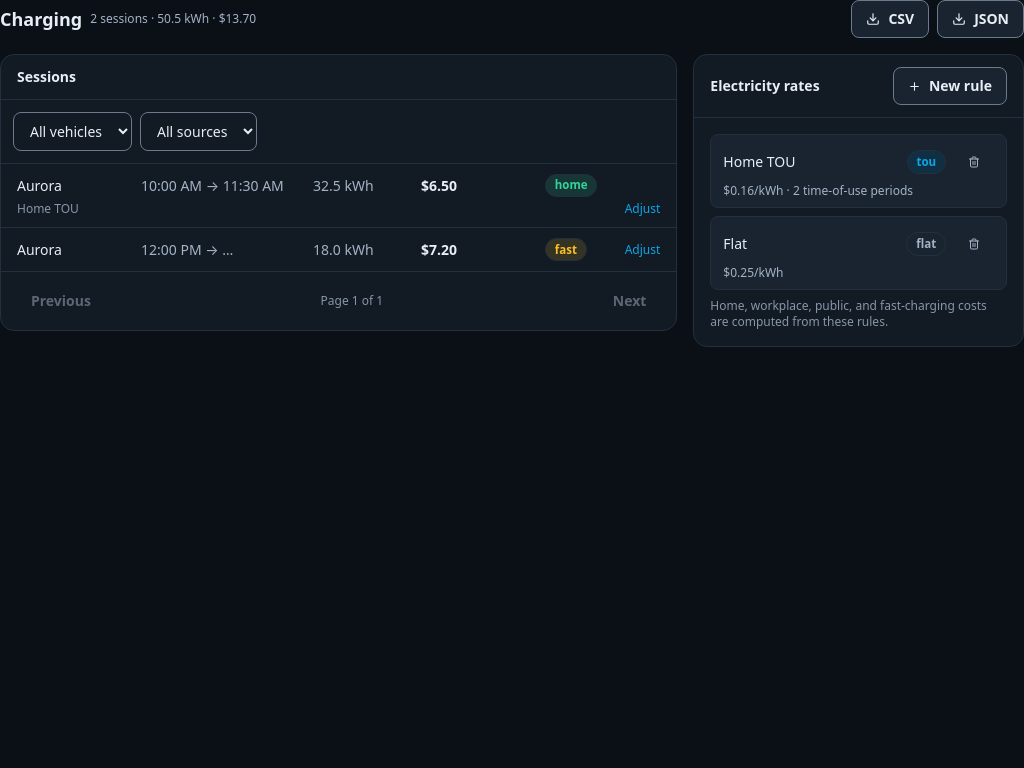
Test: ChargingPage › opens the cost correction modal and saves a manual override
This screenshot has width=1024, height=768.
Click the button "Adjust" below "32.5 kWh".
click(642, 209)  # box [625,201,660,217]
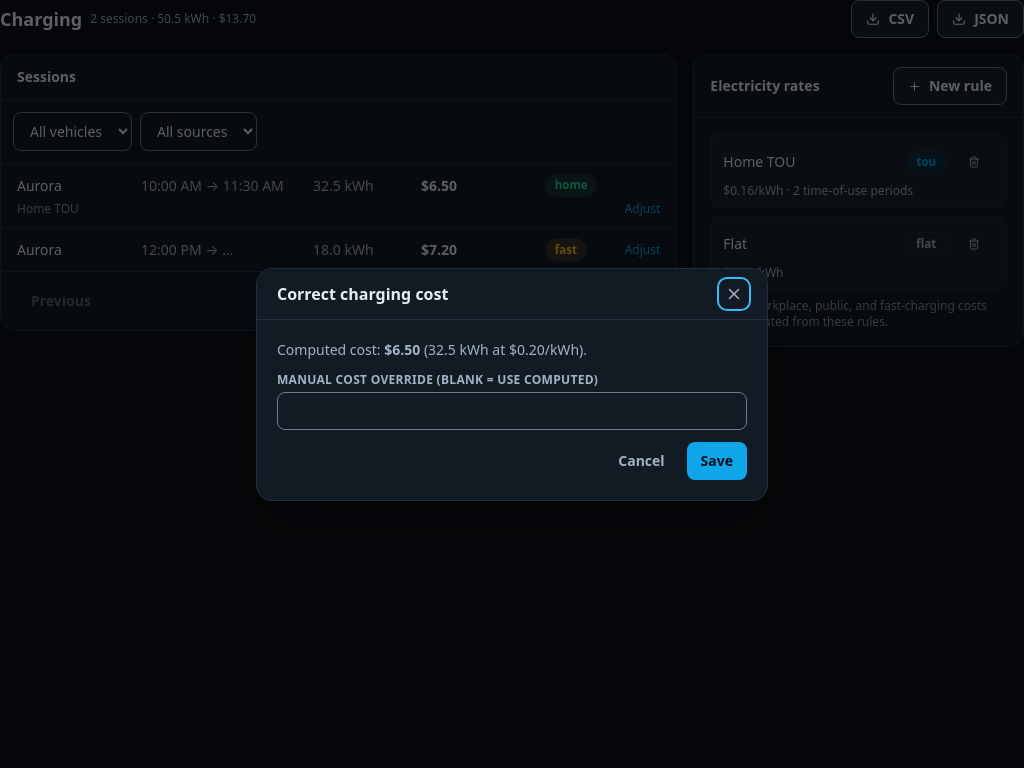
Expected: the heading "Correct charging cost" is shown, [277,282,448,306]
Type "12.34" into the number field.
click(512, 410); type("12.34")  # box [277,392,747,430]
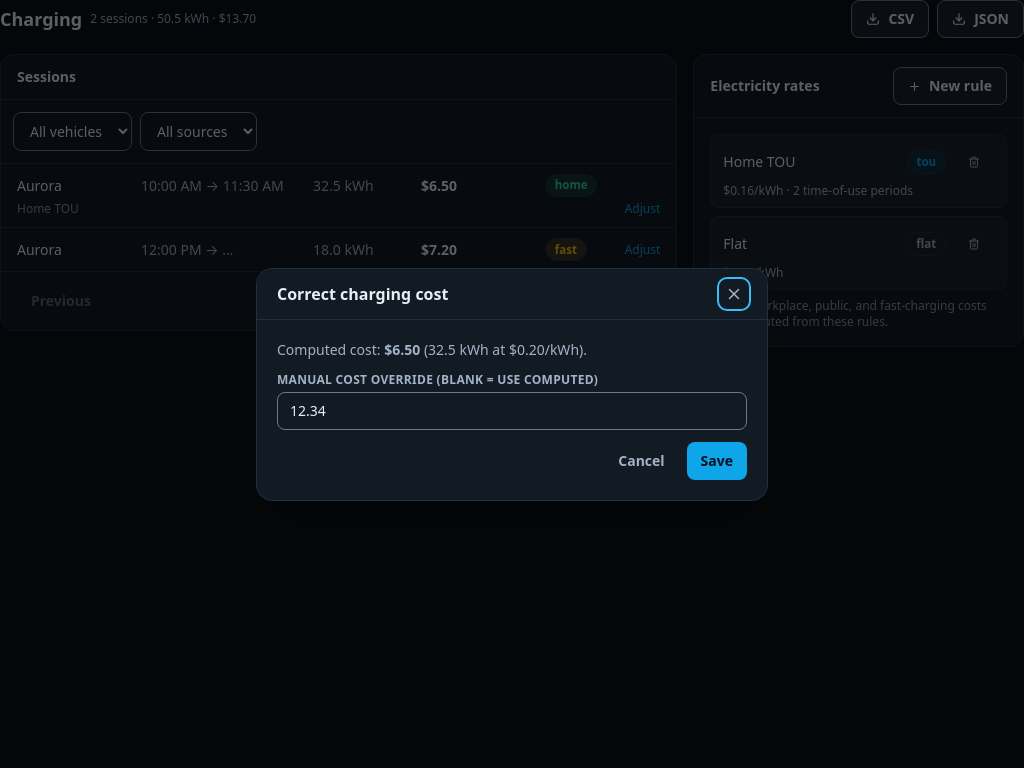
Click the button "Save".
click(717, 460)  # box [687,442,747,480]
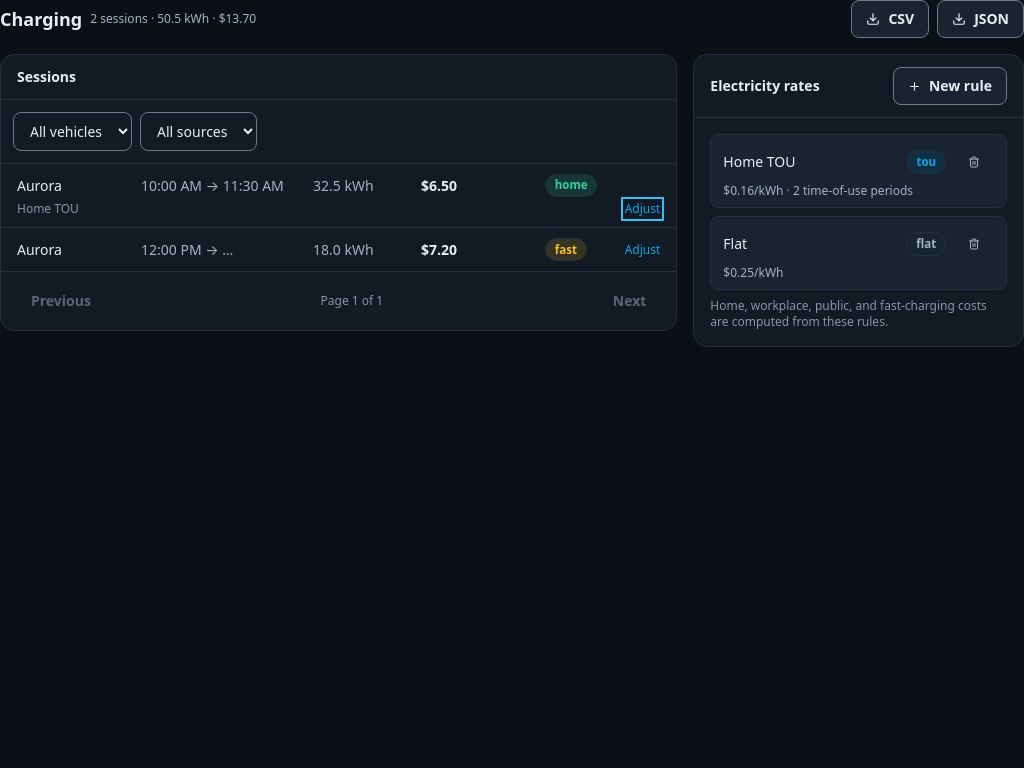
Expected: the heading "Correct charging cost" is gone
